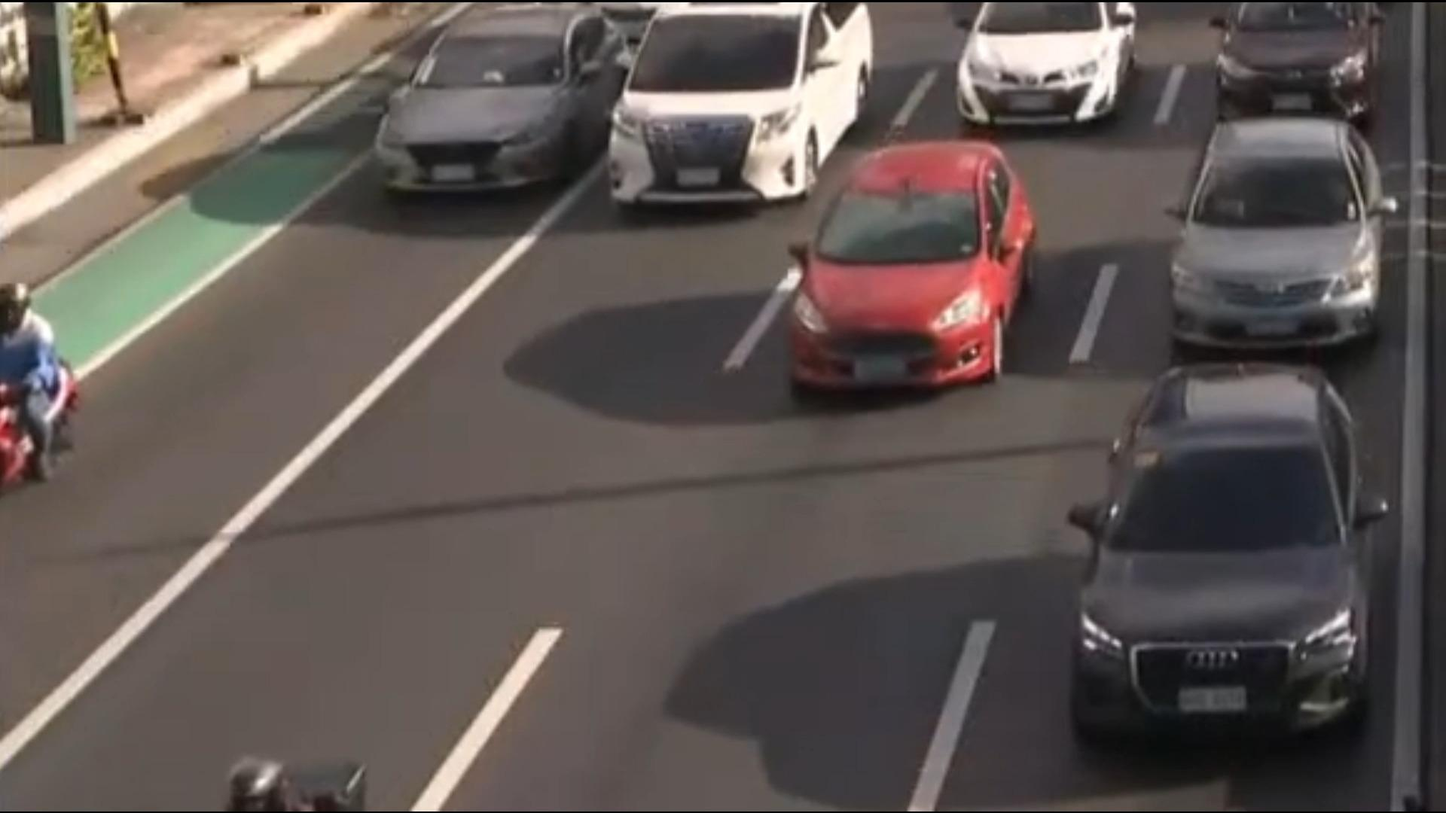Motorcycle: (0, 269, 72, 499)
Sedan: (1073, 350, 1378, 725), (787, 139, 1017, 401), (1160, 117, 1384, 341), (382, 6, 619, 192), (947, 0, 1130, 115)
Van: (606, 0, 870, 205)
